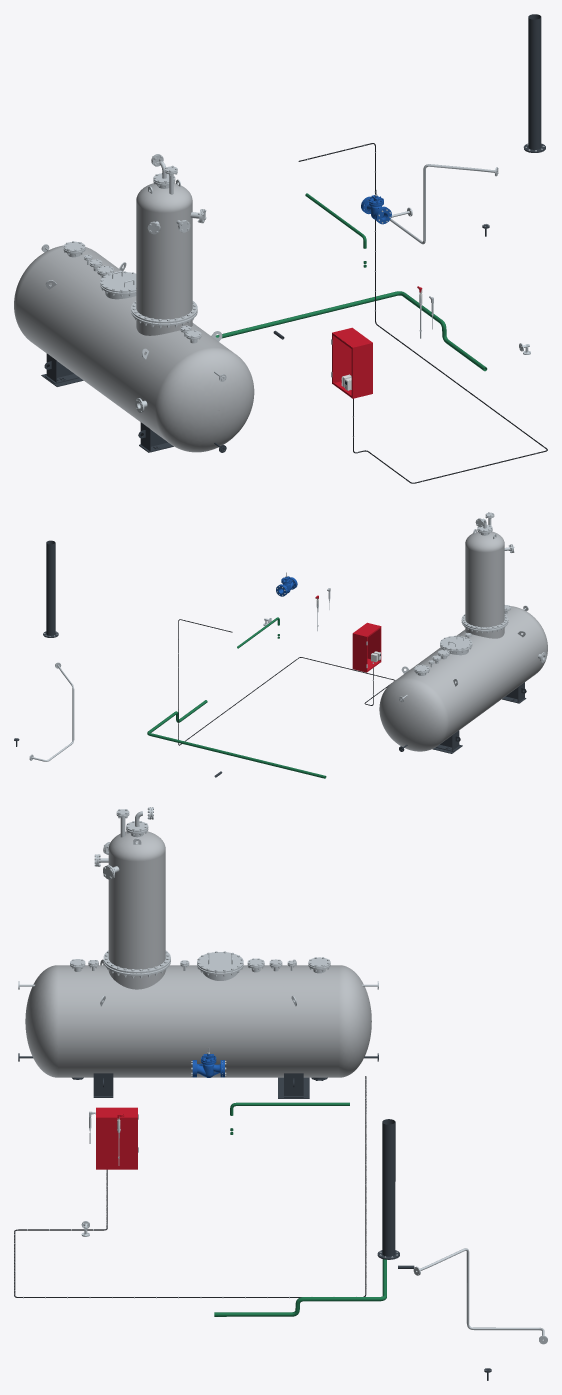
3 views of the same model, one above another, from view 1: azimuth 30°, elevation 25°; view 2: azimuth 150°, elevation 25°; view 3: azimuth 270°, elevation 25° (orthographic). The views are drawn at different scales.
Visible parts, largest first — view 1: deaerator CAD solid 56, deaerator CAD solid 257, control_cabinet / control_cabinet_0.npz, bdv_vent / dark, suction_common / green, mod_eco_drive_cable / black, trap_gap_to_bdv / steel, deaerator CAD solid 408; view 2: deaerator CAD solid 56, deaerator CAD solid 257, control_cabinet / control_cabinet_0.npz, bdv_vent / dark, suction_common / green, mod_eco_drive_cable / black, trap_gap_to_bdv / steel, deaerator CAD solid 408; view 3: deaerator CAD solid 56, deaerator CAD solid 257, control_cabinet / control_cabinet_0.npz, bdv_vent / dark, mod_eco_drive_cable / black, suction_common / green, trap_gap_to_bdv / steel, deaerator CAD solid 408.
Boxes of the visible parts, <box> form: deaerator CAD solid 56: <box>14,245,254,452</box>; deaerator CAD solid 257: <box>136,183,192,319</box>; control_cabinet / control_cabinet_0.npz: <box>331,327,372,398</box>; bdv_vent / dark: <box>523,14,545,152</box>; suction_common / green: <box>215,291,487,371</box>; mod_eco_drive_cable / black: <box>298,143,547,483</box>; trap_gap_to_bdv / steel: <box>390,164,498,244</box>; deaerator CAD solid 408: <box>100,272,136,292</box>; deaerator CAD solid 56: <box>379,606,547,751</box>; deaerator CAD solid 257: <box>465,531,504,627</box>; control_cabinet / control_cabinet_0.npz: <box>352,622,381,672</box>; bdv_vent / dark: <box>43,540,58,637</box>; suction_common / green: <box>147,700,326,778</box>; mod_eco_drive_cable / black: <box>178,619,395,745</box>; trap_gap_to_bdv / steel: <box>29,662,74,761</box>; deaerator CAD solid 408: <box>440,636,472,650</box>; deaerator CAD solid 56: <box>25,965,371,1077</box>; deaerator CAD solid 257: <box>108,831,165,969</box>; control_cabinet / control_cabinet_0.npz: <box>96,1107,138,1169</box>; bdv_vent / dark: <box>377,1119,399,1259</box>; mod_eco_drive_cable / black: <box>14,1076,366,1297</box>; suction_common / green: <box>214,1259,386,1316</box>; trap_gap_to_bdv / steel: <box>413,1248,547,1344</box>; deaerator CAD solid 408: <box>197,952,243,972</box>.
Bounding box in the file's own units: 8.25 × 4.72 × 6.74.
